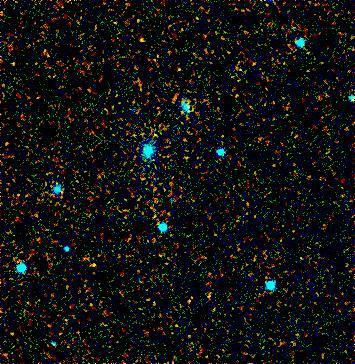star: (76, 250, 106, 280)
